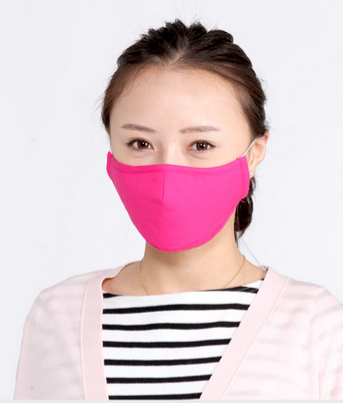face_mask: (109, 65, 244, 253)
